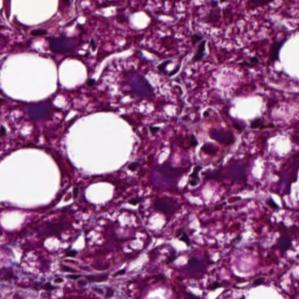inflammation: (171, 130, 219, 189), (156, 29, 212, 79), (49, 248, 112, 290)
